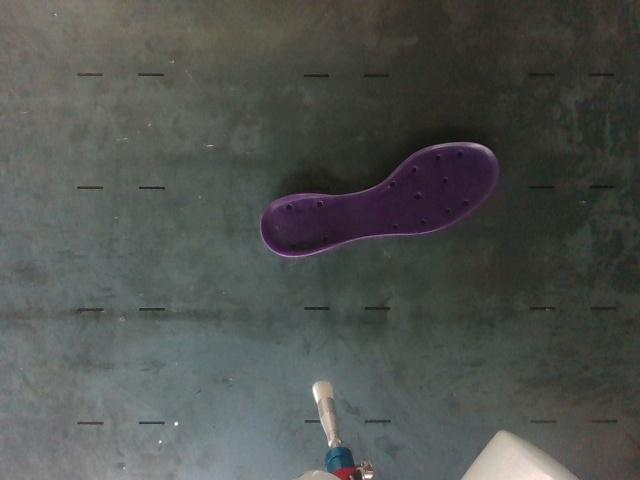shoes: (262, 144, 497, 254)
